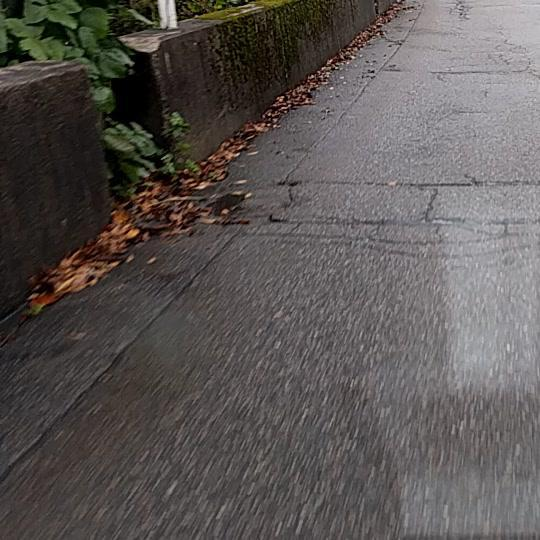D20: (249, 171, 539, 252), (432, 31, 539, 81)
